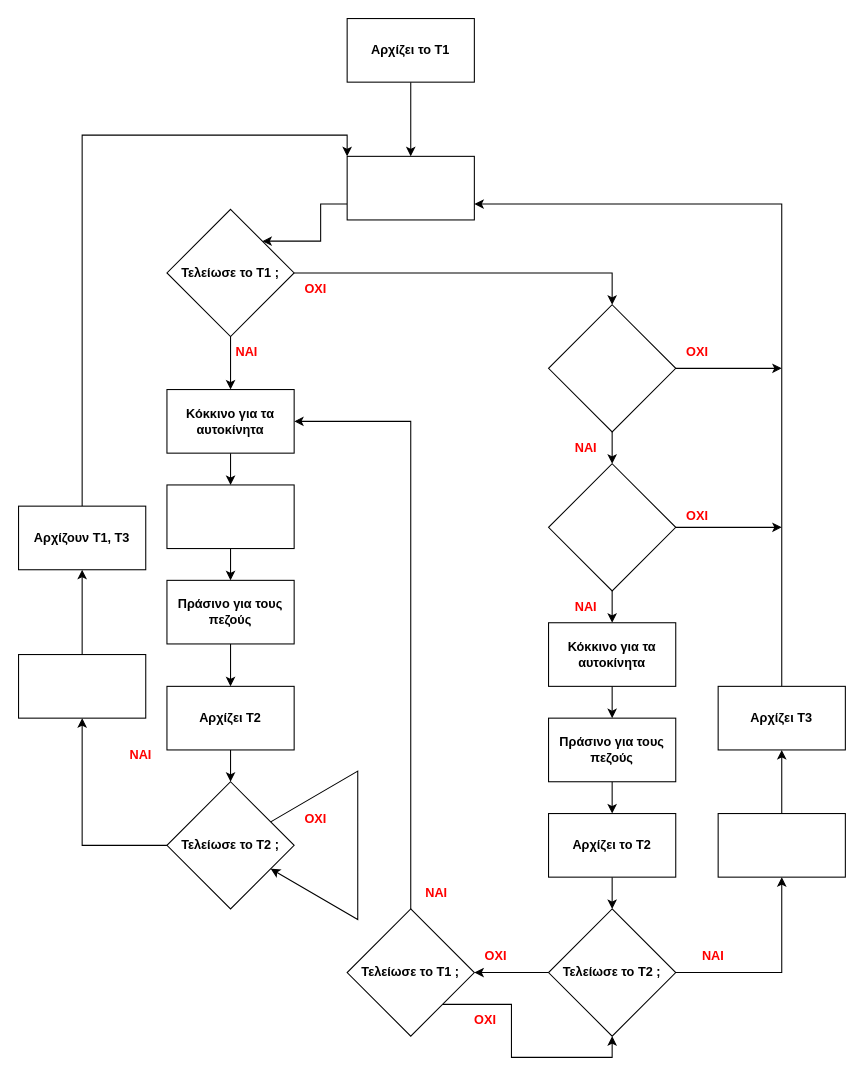
The diagram is 864 pixels wide and 1084 high, and some of its shapes have lost their labels. The shapes that lost their labels are listed below. From the top down, each one's centre as x and y in pixels, then its label:
the point at 410,187: Πράσινο για αυτοκίνητα
the point at 611,368: Πατήθηκε το κουμπί ;
the point at 230,516: Πράσινο για το Τραμ
the point at 611,527: Τελείωσε το Τ3 ;
the point at 81,685: Κόκκινο για το Τραμ, κόκκινο για τους πεζούς
the point at 781,844: Κόκκινο για τους πεζούς
